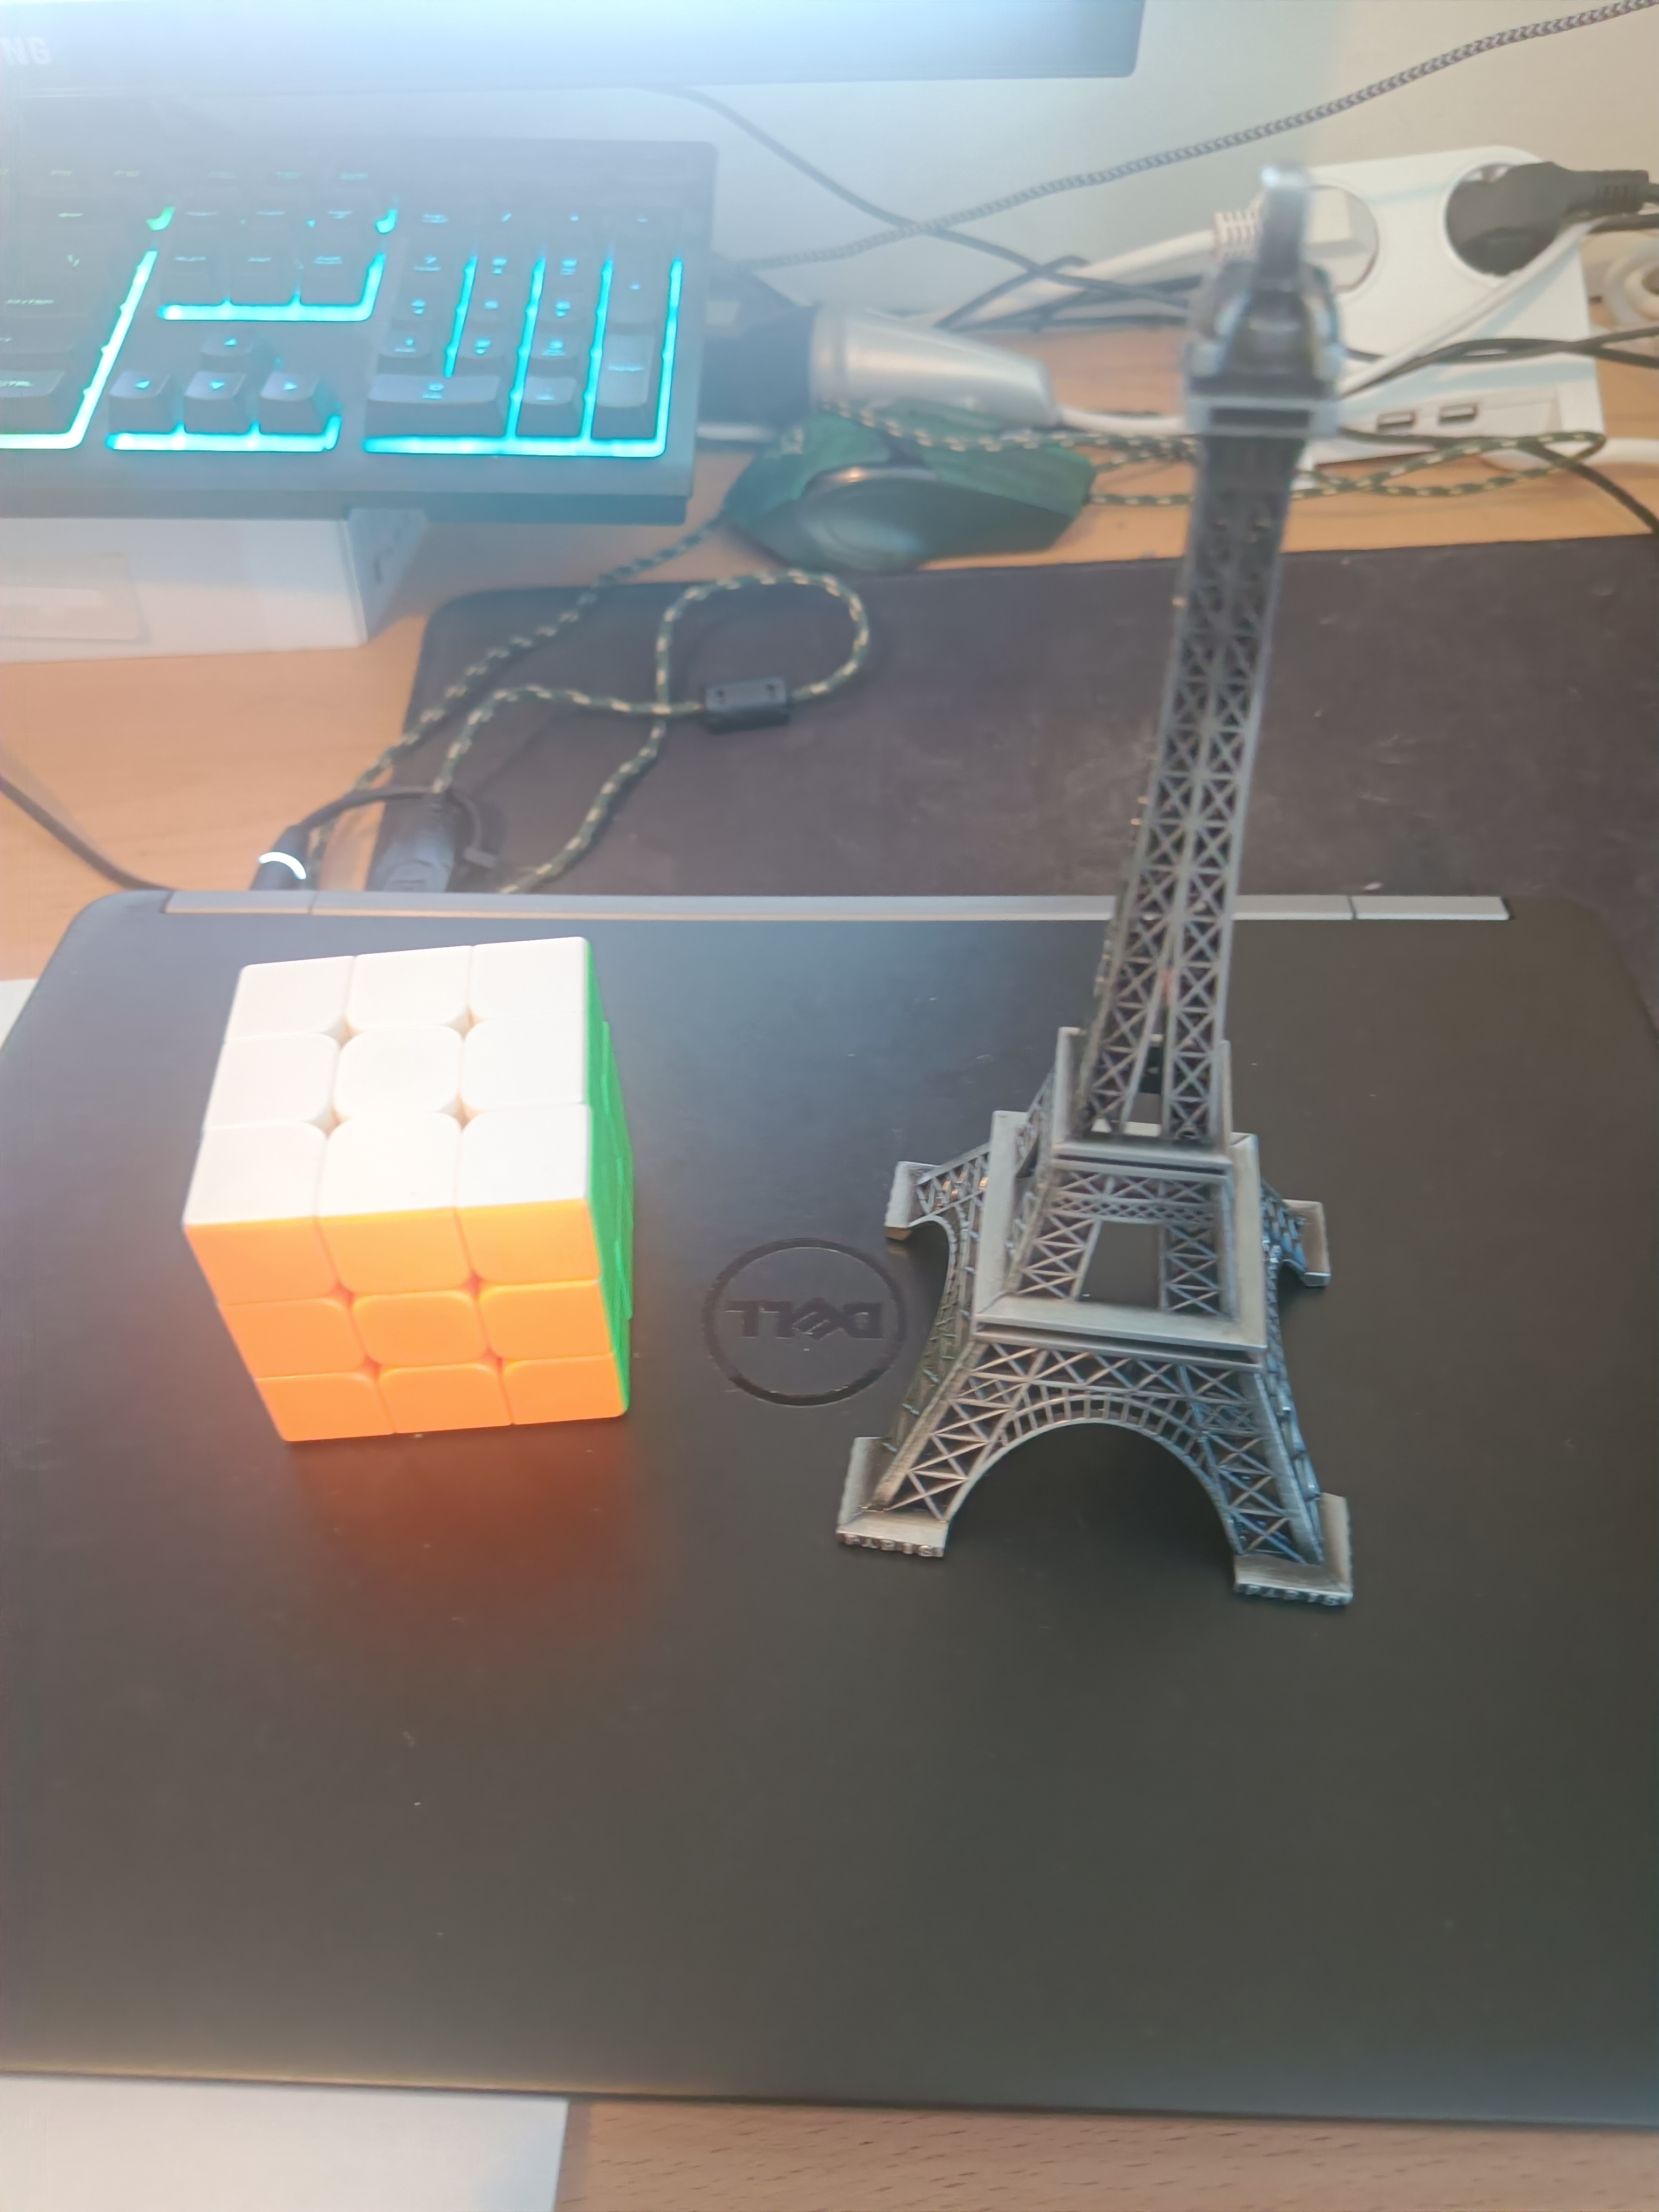Eiffel Tower: (828, 152, 1394, 1608)
Rubiks Cube: (167, 927, 650, 1458)
